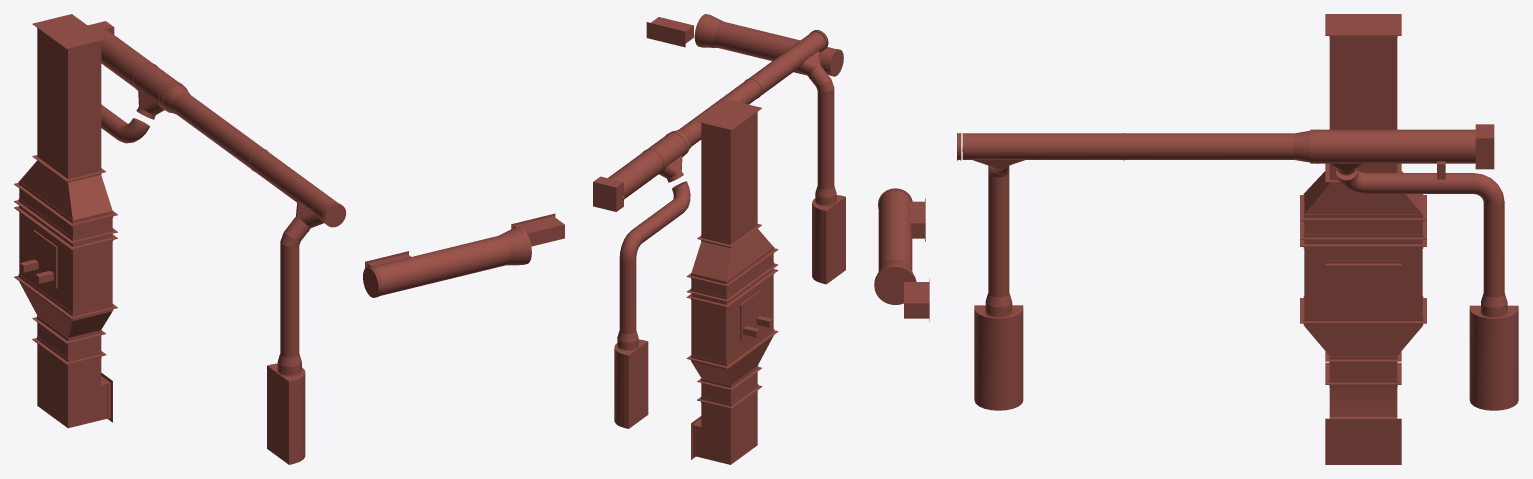
The model's file is HULDRA-HA-HVAC.obj.
3 renders of one model, left to right at view 1: azimuth 30°, elevation 25°; view 2: azimuth 150°, elevation 25°; view 3: azimuth 270°, elevation 25°, orthographic. The views are drawn at different scales.
Visible parts, largest first — view 1: STRT_1_of_BRANCH_/20-A-00-272_Mesh.2048, STRT_2_of_BRANCH_/20-A-00-272-B_Mesh.2054, /20-A-00-272-2_Mesh.2050, /18-C-00-068-1_Mesh.2018, TAPER_1_of_BRANCH_/20-A-00-272-B_Mesh.2052, BOX_1_of_EQUIPMENT_/77-GT55A_Mesh.2063, /05-C-00-232-2_Mesh.2029, /05-C-00-228-3_Mesh.2045, TAPER_2_of_BRANCH_/20-A-00-272-B_Mesh.2056, STRT_1_of_BRANCH_/20-A-00-272-B_Mesh.2053, /20-A-00-272-12_Mesh.2049, /05-C-00-227-2_Mesh.2022 (+8 smaller); view 2: STRT_1_of_BRANCH_/20-A-00-272_Mesh.2048, STRT_2_of_BRANCH_/20-A-00-272-B_Mesh.2054, /20-A-00-272-2_Mesh.2050, TAPER_1_of_BRANCH_/20-A-00-272-B_Mesh.2052, /18-C-00-068-1_Mesh.2018, BOX_1_of_EQUIPMENT_/77-GT55B_Mesh.2066, BOX_1_of_EQUIPMENT_/77-GT55A_Mesh.2063, /05-C-00-228-3_Mesh.2045, TAPER_2_of_BRANCH_/20-A-00-272-B_Mesh.2056, STRT_1_of_BRANCH_/20-A-00-272-B_Mesh.2053, /05-C-00-227-2_Mesh.2022, Cylinder.002_Mesh.2039 (+19 smaller); view 3: STRT_1_of_BRANCH_/20-A-00-272_Mesh.2048, STRT_2_of_BRANCH_/20-A-00-272-B_Mesh.2054, /20-A-00-272-2_Mesh.2050, RTORUS_1_of_EQUIPMENT_/77-GT55A_Mesh.2062, RTORUS_1_of_EQUIPMENT_/77-GT55B_Mesh.2065, /05-C-00-232-2_Mesh.2029, /20-A-00-272-12_Mesh.2049, /05-C-00-227-2_Mesh.2022, TAPER_1_of_BRANCH_/20-A-00-272-B_Mesh.2052, /05-C-00-232-4_Mesh.2031, /05-C-00-228-3_Mesh.2045, STRT_1_of_BRANCH_/20-A-00-272-B_Mesh.2053 (+10 smaller).
Part boxes in pixels (left/top/right/bottom): STRT_1_of_BRANCH_/20-A-00-272_Mesh.2048: left=32, top=14, right=106, bottom=178; STRT_2_of_BRANCH_/20-A-00-272-B_Mesh.2054: left=14, top=208, right=117, bottom=318; /20-A-00-272-2_Mesh.2050: left=33, top=340, right=112, bottom=428; /18-C-00-068-1_Mesh.2018: left=363, top=236, right=509, bottom=297; TAPER_1_of_BRANCH_/20-A-00-272-B_Mesh.2052: left=14, top=155, right=117, bottom=225; BOX_1_of_EQUIPMENT_/77-GT55A_Mesh.2063: left=267, top=364, right=294, bottom=464; /05-C-00-232-2_Mesh.2029: left=174, top=93, right=263, bottom=167; /05-C-00-228-3_Mesh.2045: left=280, top=248, right=299, bottom=357; TAPER_2_of_BRANCH_/20-A-00-272-B_Mesh.2056: left=14, top=277, right=117, bottom=343; STRT_1_of_BRANCH_/20-A-00-272-B_Mesh.2053: left=14, top=184, right=117, bottom=243; /20-A-00-272-12_Mesh.2049: left=32, top=322, right=106, bottom=364; /05-C-00-227-2_Mesh.2022: left=97, top=30, right=151, bottom=87; STRT_1_of_BRANCH_/20-A-00-272_Mesh.2048: left=697, top=99, right=761, bottom=244; STRT_2_of_BRANCH_/20-A-00-272-B_Mesh.2054: left=687, top=271, right=777, bottom=368; /20-A-00-272-2_Mesh.2050: left=691, top=387, right=761, bottom=464; TAPER_1_of_BRANCH_/20-A-00-272-B_Mesh.2052: left=687, top=224, right=778, bottom=286; /18-C-00-068-1_Mesh.2018: left=714, top=22, right=843, bottom=76; BOX_1_of_EQUIPMENT_/77-GT55B_Mesh.2066: left=624, top=340, right=648, bottom=428; BOX_1_of_EQUIPMENT_/77-GT55A_Mesh.2063: left=821, top=195, right=845, bottom=284; /05-C-00-228-3_Mesh.2045: left=817, top=93, right=834, bottom=189; TAPER_2_of_BRANCH_/20-A-00-272-B_Mesh.2056: left=688, top=332, right=777, bottom=390; STRT_1_of_BRANCH_/20-A-00-272-B_Mesh.2053: left=687, top=250, right=778, bottom=301; /05-C-00-227-2_Mesh.2022: left=608, top=150, right=663, bottom=199; Cylinder.002_Mesh.2039: left=619, top=259, right=636, bottom=334; STRT_1_of_BRANCH_/20-A-00-272_Mesh.2048: left=1325, top=14, right=1401, bottom=265; STRT_2_of_BRANCH_/20-A-00-272-B_Mesh.2054: left=1300, top=246, right=1426, bottom=323; /20-A-00-272-2_Mesh.2050: left=1325, top=384, right=1401, bottom=464; RTORUS_1_of_EQUIPMENT_/77-GT55A_Mesh.2062: left=974, top=308, right=1023, bottom=410; RTORUS_1_of_EQUIPMENT_/77-GT55B_Mesh.2065: left=1469, top=308, right=1518, bottom=410; /05-C-00-232-2_Mesh.2029: left=1124, top=133, right=1293, bottom=159; /20-A-00-272-12_Mesh.2049: left=1325, top=265, right=1401, bottom=384; /05-C-00-227-2_Mesh.2022: left=1375, top=129, right=1475, bottom=163; TAPER_1_of_BRANCH_/20-A-00-272-B_Mesh.2052: left=1300, top=163, right=1426, bottom=220; /05-C-00-232-4_Mesh.2031: left=1023, top=133, right=1123, bottom=159; /05-C-00-228-3_Mesh.2045: left=988, top=176, right=1009, bottom=296; STRT_1_of_BRANCH_/20-A-00-272-B_Mesh.2053: left=1300, top=220, right=1426, bottom=239.
Size of the model in its own units: 4.97 by 5.55 by 7.61.
